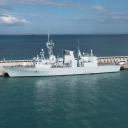Fragata: (3, 28, 123, 79)
